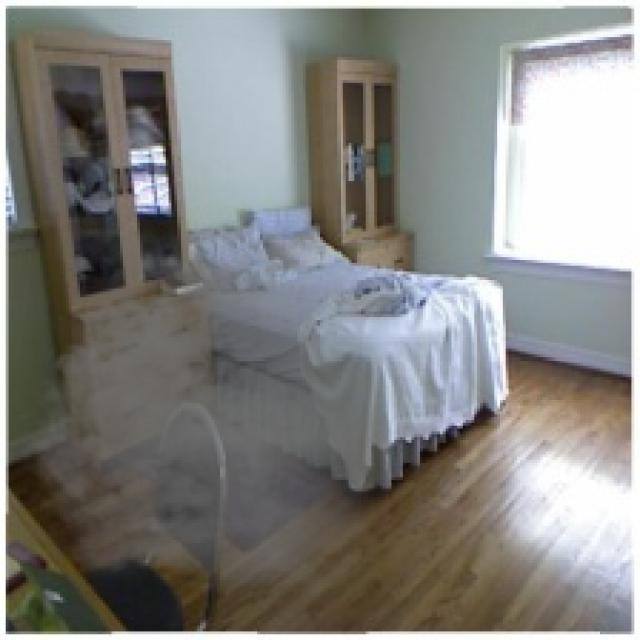smoke: (9, 229, 388, 594)
